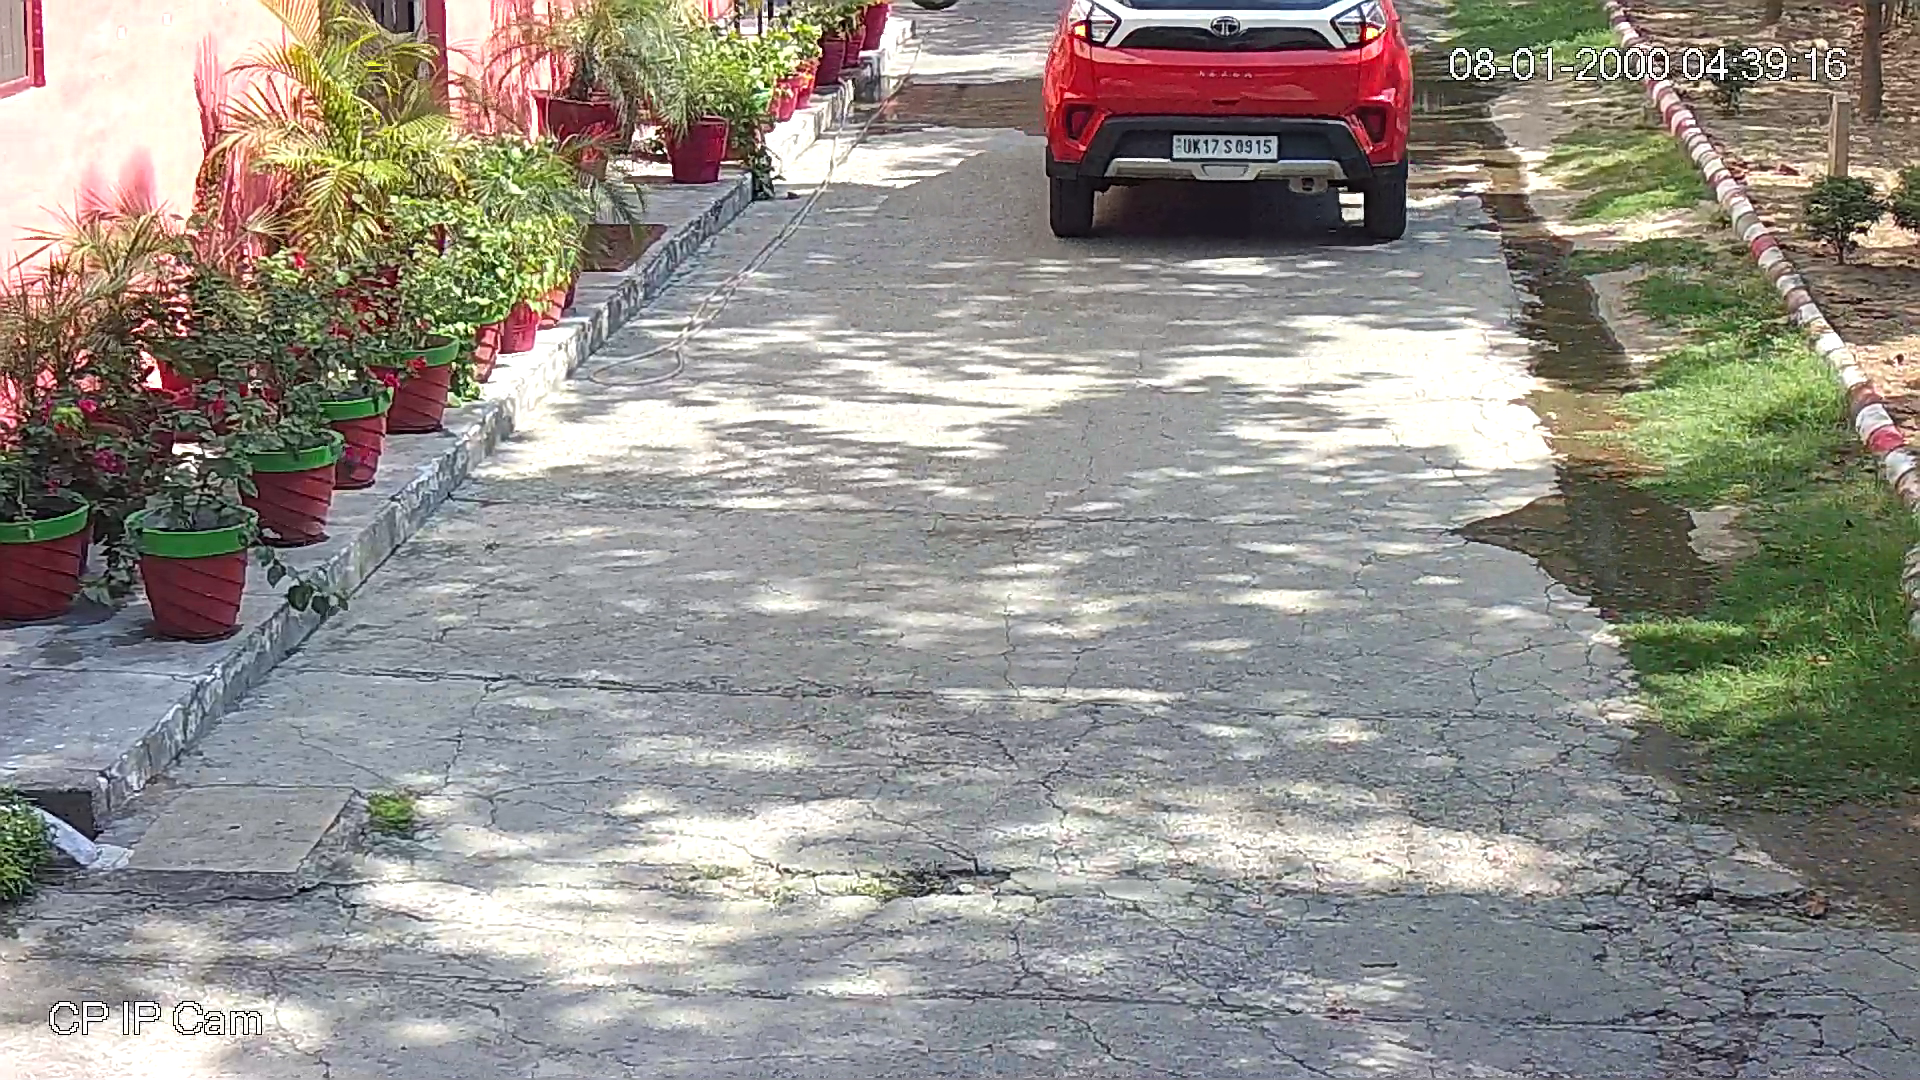plate: (1164, 130, 1286, 165)
